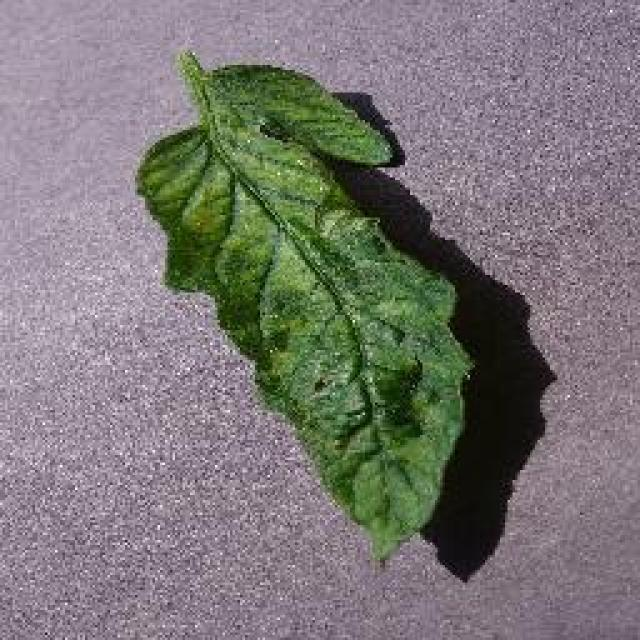Tomato___Tomato_mosaic_virus: (135, 50, 472, 555)
